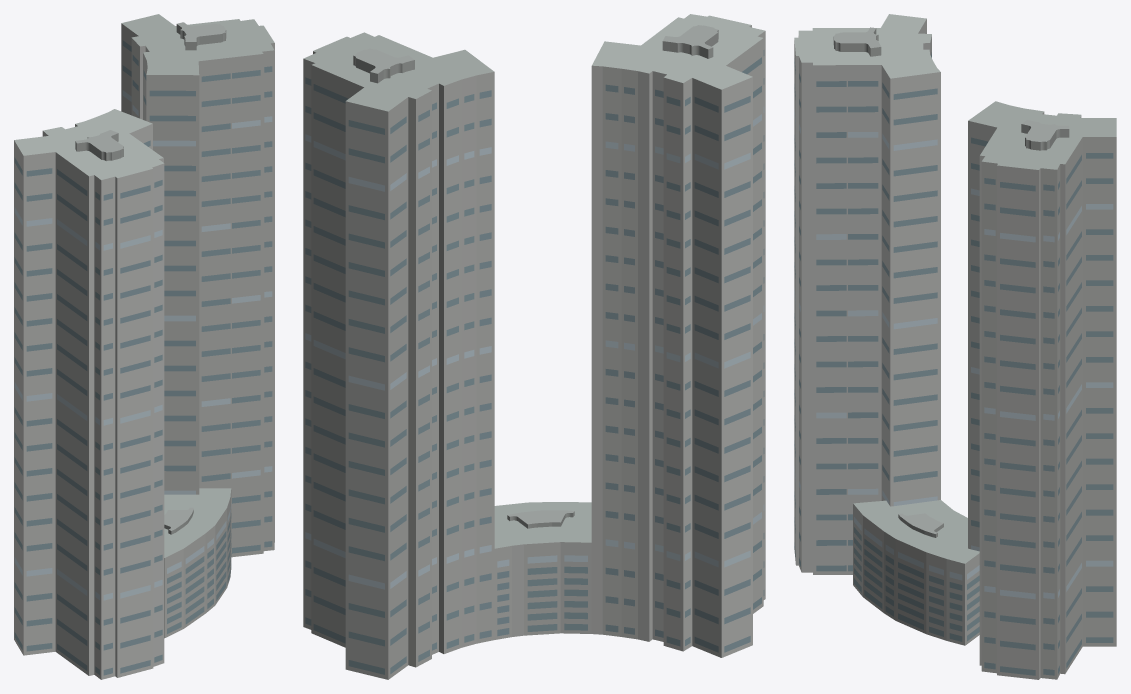
File: apt-a15001005.glb
The picture shows the model from 3 angles, left to right: view 1: azimuth 30°, elevation 25°; view 2: azimuth 150°, elevation 25°; view 3: azimuth 270°, elevation 25°; orthographic projection. The views are drawn at different scales.
Visible parts, largest first — view 1: apt-a15001005; view 2: apt-a15001005; view 3: apt-a15001005.
Boxes of the visible parts, box(x1,y1,x2,y2) form: apt-a15001005: box(14, 14, 274, 679); apt-a15001005: box(303, 14, 765, 679); apt-a15001005: box(794, 14, 1116, 679).
Size of the model in its own units: 93.65 by 145 by 81.77.
